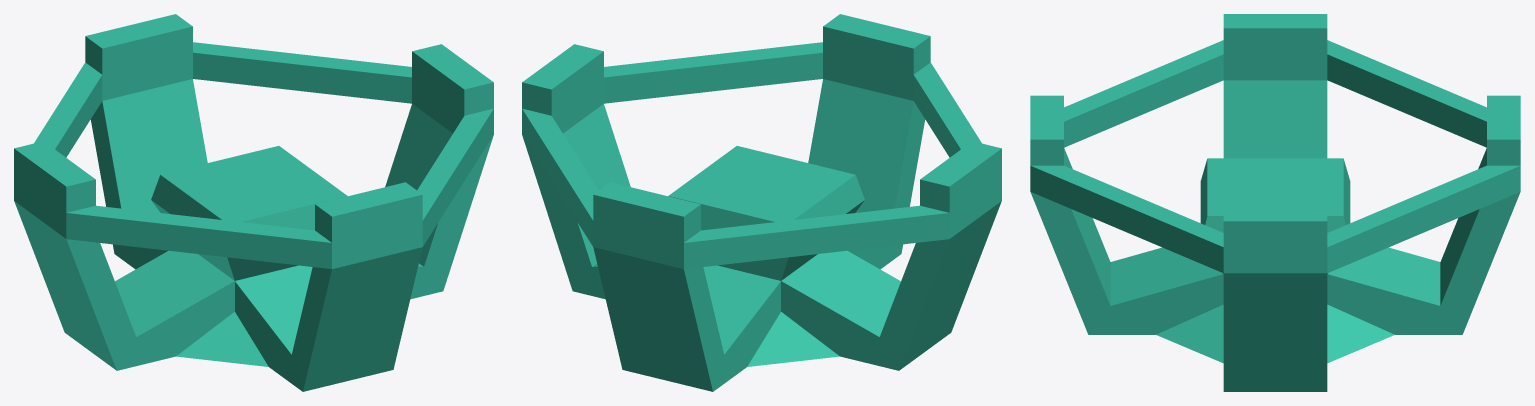
The model's file is d_kenney_brasero.glb.
The picture shows the model from 3 angles, left to right: view 1: azimuth 30°, elevation 25°; view 2: azimuth 150°, elevation 25°; view 3: azimuth 270°, elevation 25°; orthographic projection.
Parts seen in each view (by area): view 1: d_kenney_brasero; view 2: d_kenney_brasero; view 3: d_kenney_brasero.
Boxes of the visible parts, box(x1,y1,x2,y2) form: d_kenney_brasero: box(14, 14, 493, 391); d_kenney_brasero: box(522, 14, 1001, 391); d_kenney_brasero: box(1030, 14, 1520, 391).
Size of the model in its own units: 0.2731 by 0.12 by 0.2731.
Materials: 1 (1 with a texture image).
